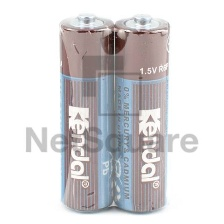battery: (56, 7, 117, 214), (112, 9, 171, 214)
